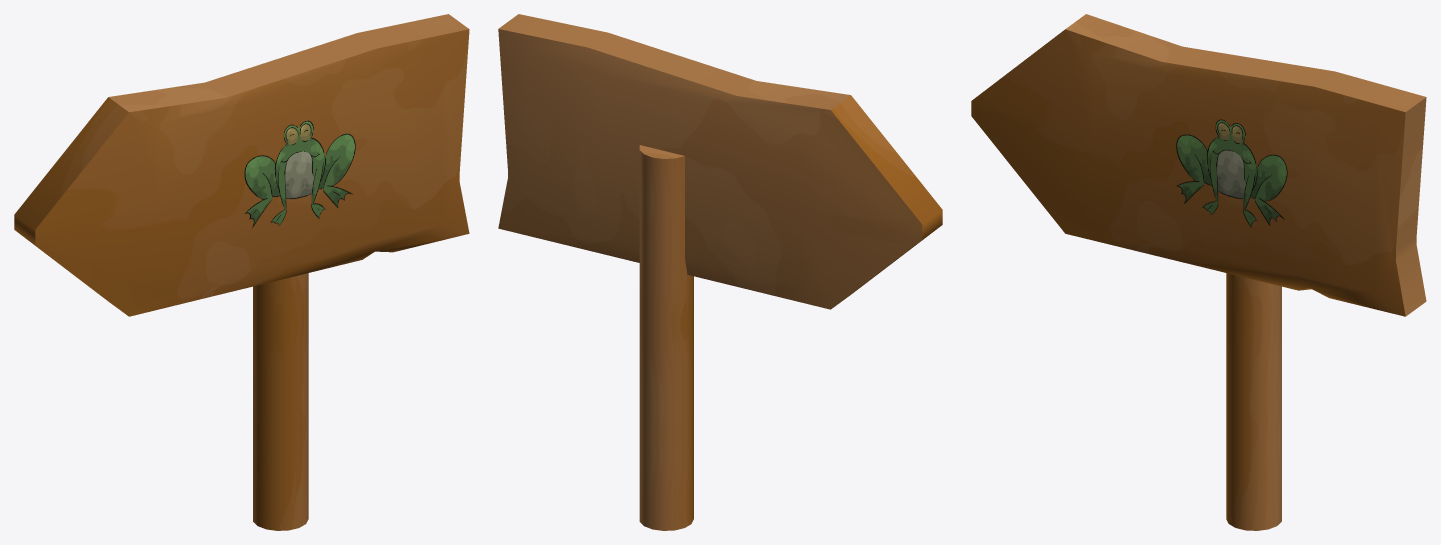
The model's file is SignKurbaga.fbx.
3 renders of one model, left to right at view 1: azimuth 30°, elevation 25°; view 2: azimuth 150°, elevation 25°; view 3: azimuth 330°, elevation 25°, orthographic. The views are drawn at different scales.
Visible parts, largest first — view 1: SignKurbaga; view 2: SignKurbaga; view 3: SignKurbaga.
Boxes of the visible parts, box(x1,y1,x2,y2) form: SignKurbaga: box(14, 14, 469, 530); SignKurbaga: box(498, 14, 942, 530); SignKurbaga: box(971, 14, 1426, 530).
Size of the model in its own units: 191 by 195 by 26.68.
1 material, 1 textured.
